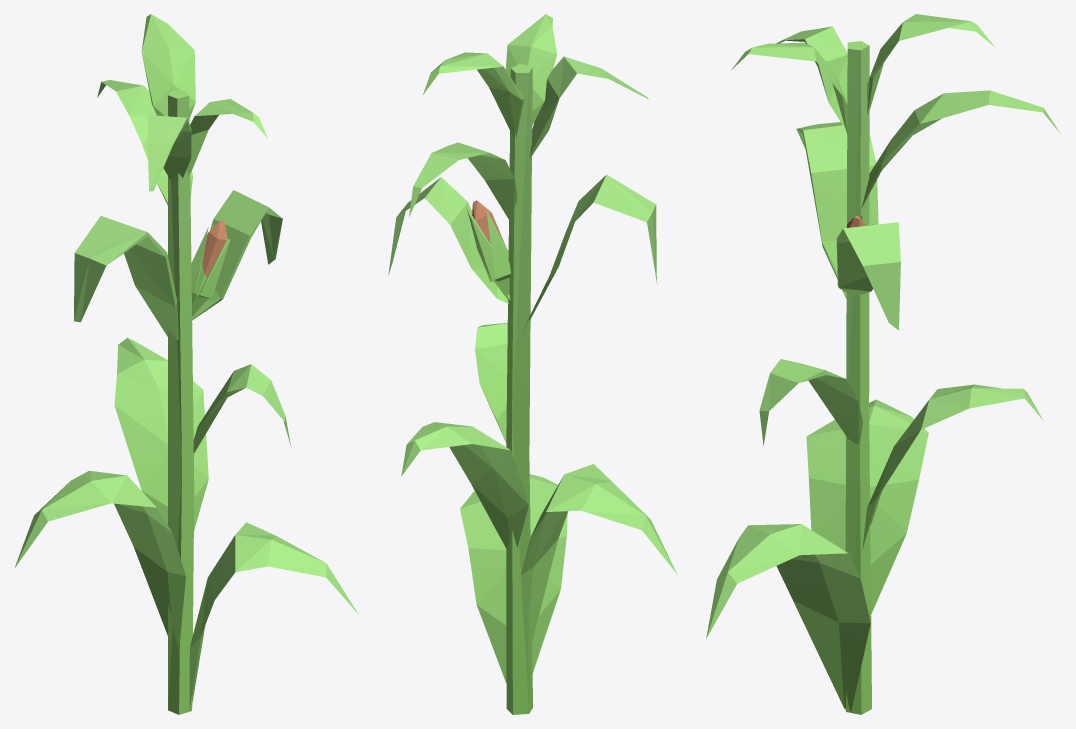
File: CornStage3.fbx
3 views of the same model, side by side, from view 1: azimuth 30°, elevation 25°; view 2: azimuth 150°, elevation 25°; view 3: azimuth 270°, elevation 25° (orthographic). The views are drawn at different scales.
Visible parts, largest first — view 1: CornPlant_03; view 2: CornPlant_03; view 3: CornPlant_03.
Boxes of the visible parts, bbox=[...] form: CornPlant_03: bbox=[14, 14, 358, 714]; CornPlant_03: bbox=[388, 14, 677, 714]; CornPlant_03: bbox=[706, 14, 1060, 714].
Size of the model in its own units: 53.34 by 123 by 56.8.
